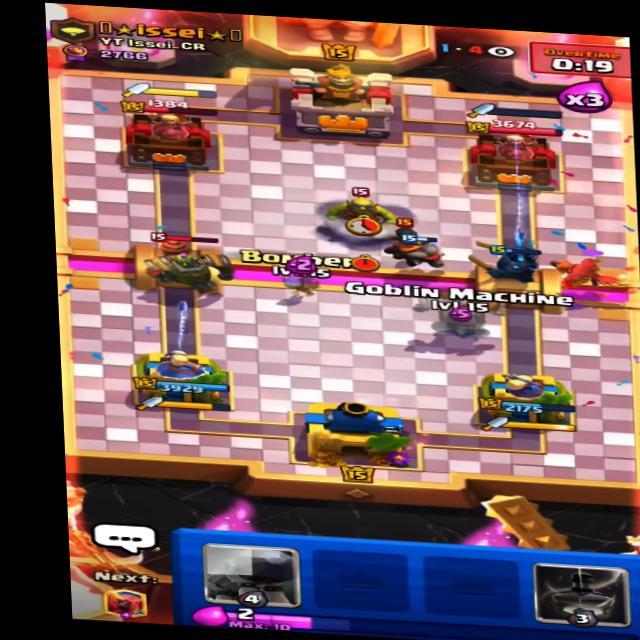Goblindemolisher: (322, 184, 401, 234)
Goblinmachine: (132, 230, 240, 292)
Ramrider: (384, 217, 445, 277)
